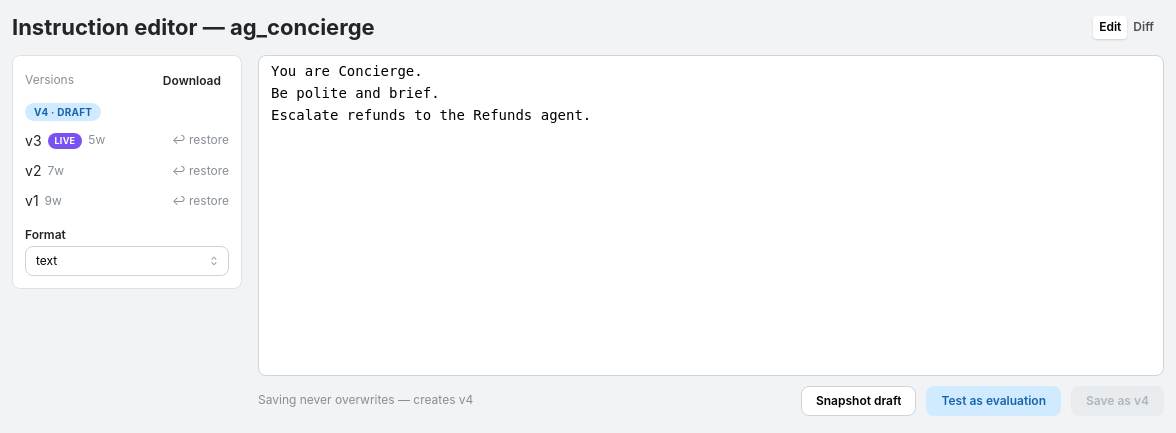
Test: EditorPage › diffs any two versions via the from/to selectors
expect the text box named "Instructions" is shown: met, box [258,55,1164,376]
Click the radio button labelled "Diff" at (1144, 27), box [1133,19,1154,34]
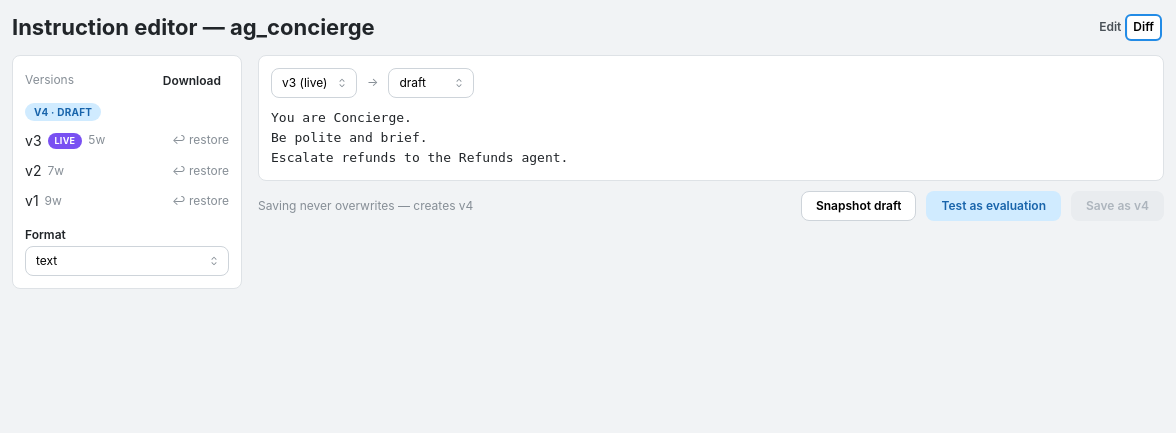
Select "v1" in the dropdown named "Diff from" at (314, 83), box [271,68,357,98]
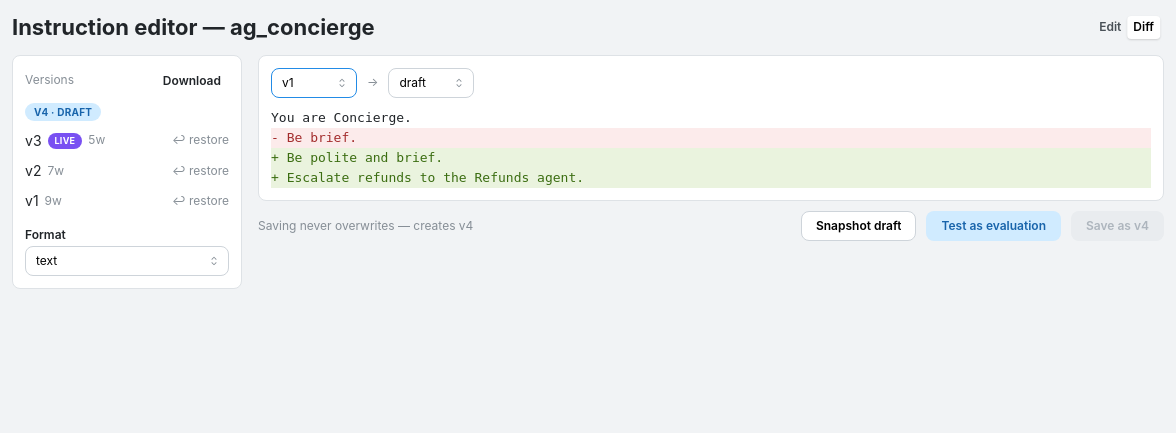
Select "v2" in the dropdown named "Diff to" at (432, 83), box [388,68,474,98]
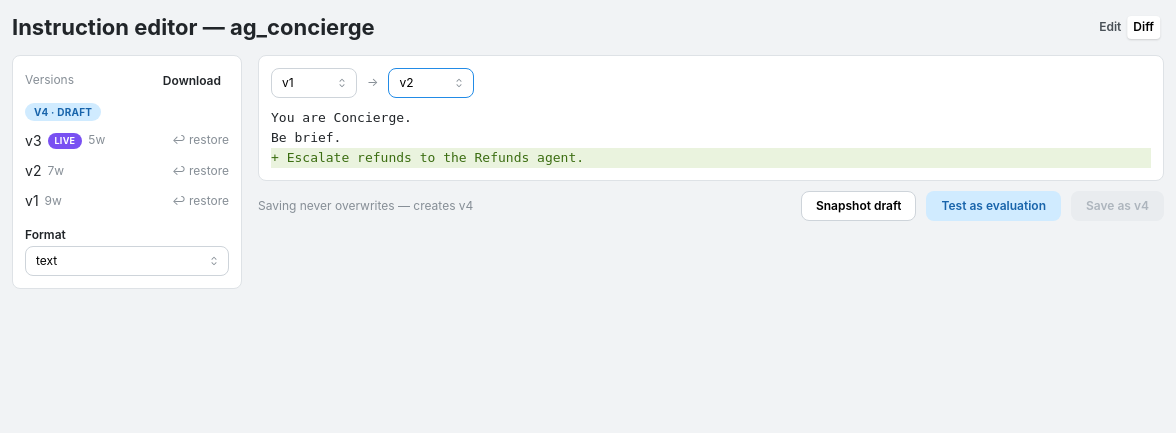
expect the elements with test id "diff-add" read "+ Escalate refunds to the Refunds agent.", in this order: met, box [271,148,1151,168]
